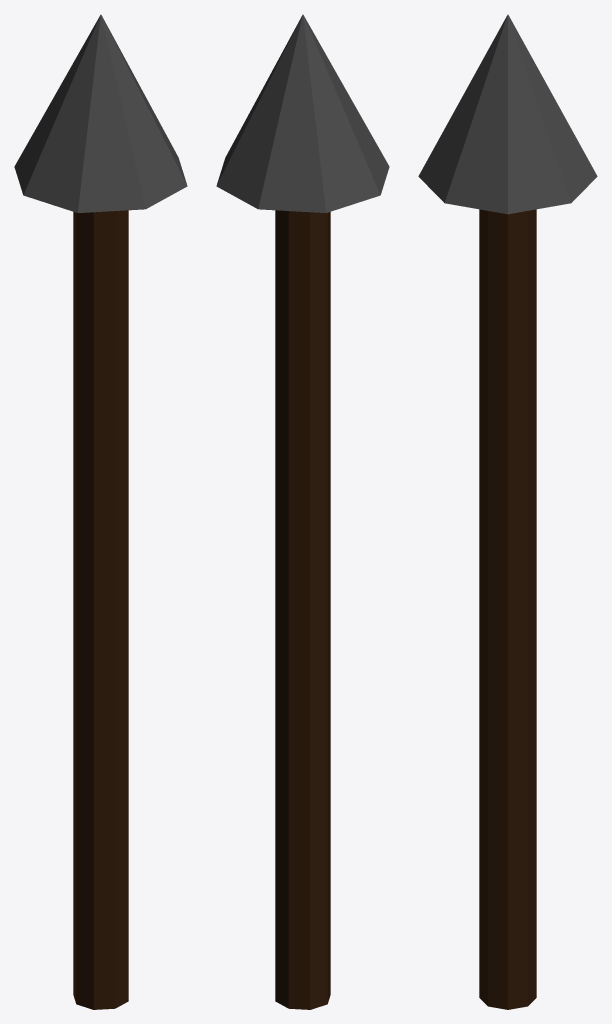
Rendered from trapArrow_type_01.fbx.
3 renders of one model, left to right at view 1: azimuth 30°, elevation 25°; view 2: azimuth 150°, elevation 25°; view 3: azimuth 270°, elevation 25°, orthographic.
Visible parts, largest first — view 1: trapArrow_type_01; view 2: trapArrow_type_01; view 3: trapArrow_type_01.
Boxes of the visible parts, left/top/right/bottom form: trapArrow_type_01: left=14, top=14, right=187, bottom=1009; trapArrow_type_01: left=216, top=14, right=389, bottom=1009; trapArrow_type_01: left=418, top=14, right=597, bottom=1009.
Size of the model in its own units: 6.03 by 36.51 by 6.03.
